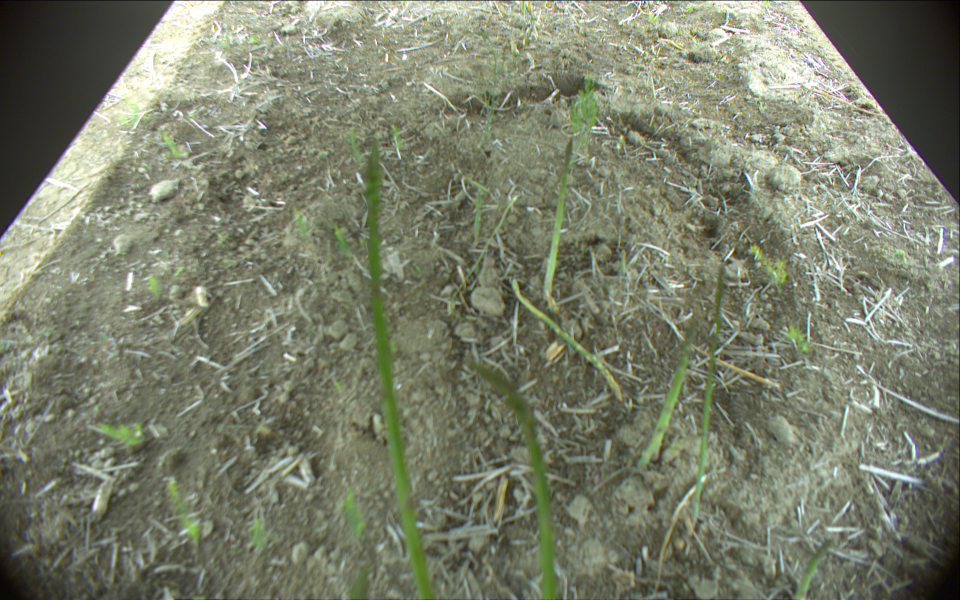aspa: (364, 139, 436, 600), (467, 359, 557, 600), (510, 278, 620, 405), (691, 260, 726, 524), (639, 318, 697, 472), (542, 137, 573, 298), (792, 537, 834, 600), (473, 182, 483, 253)
